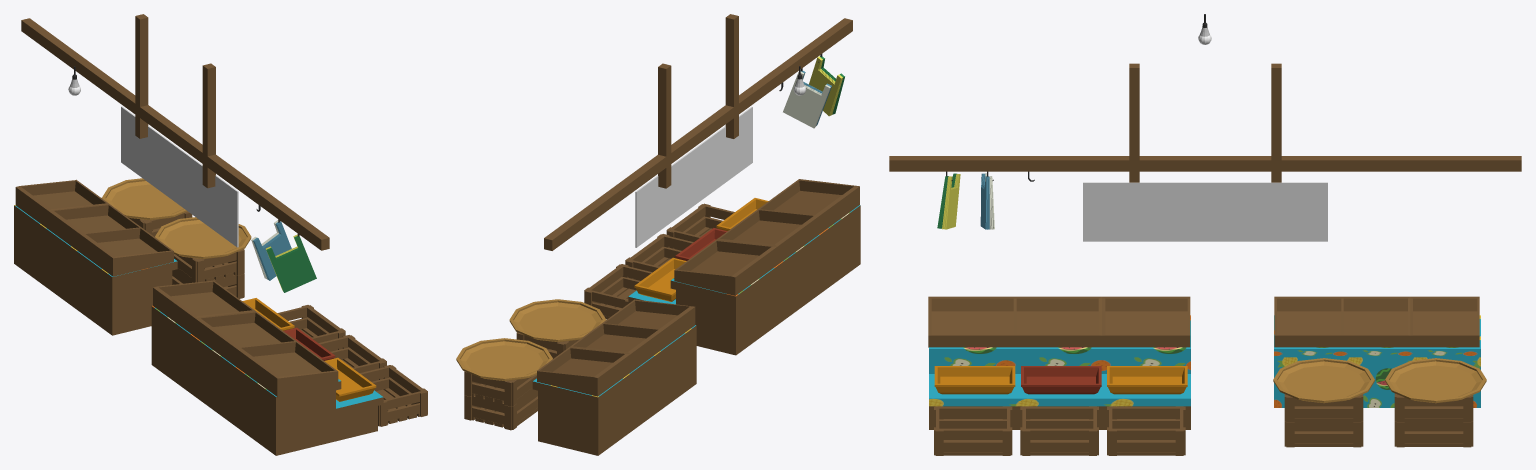
File: gulayanprutas.fbx
3 renders of one model, left to right at view 1: azimuth 30°, elevation 25°; view 2: azimuth 150°, elevation 25°; view 3: azimuth 270°, elevation 25°, orthographic. The views are drawn at different scales.
Visible parts, largest first — view 1: LongTable1.002, Container.003, gulayanprutas, LongTable1.003, Container.004, stallname, woodcrates.001, bilao, woodcrates, plastic.001, Container.002, plastic (+2 smaller); view 2: LongTable1.002, Container.003, LongTable1.003, gulayanprutas, Container.004, stallname, bilao, woodcrates.001, woodcrates, plastic, Container, plastic.001 (+2 smaller); view 3: stallname, Container.003, gulayanprutas, woodcrates.001, Container.004, LongTable1.002, woodcrates, bilao, LongTable1.003, Container.002, Container, Container.001 (+2 smaller).
Part boxes in pixels (left/top/right/bottom): LongTable1.002: left=151, top=305, right=383, bottom=455; Container.003: left=153, top=280, right=338, bottom=397; gulayanprutas: left=21, top=14, right=329, bottom=250; LongTable1.003: left=14, top=205, right=177, bottom=335; Container.004: left=15, top=179, right=173, bottom=276; stallname: left=121, top=106, right=238, bottom=247; woodcrates.001: left=277, top=305, right=427, bottom=426; bilao: left=102, top=178, right=251, bottom=258; woodcrates: left=128, top=211, right=244, bottom=298; plastic.001: left=266, top=234, right=316, bottom=292; Container.002: left=324, top=357, right=376, bottom=401; plastic: left=251, top=220, right=291, bottom=280; LongTable1.002: left=628, top=205, right=860, bottom=355; Container.003: left=674, top=179, right=859, bottom=295; LongTable1.003: left=532, top=325, right=696, bottom=455; gulayanprutas: left=544, top=14, right=852, bottom=250; Container.004: left=537, top=299, right=695, bottom=396; stallname: left=635, top=106, right=752, bottom=247; bilao: left=456, top=299, right=606, bottom=380; woodcrates.001: left=584, top=203, right=734, bottom=319; woodcrates: left=464, top=332, right=579, bottom=430; plastic: left=783, top=70, right=831, bottom=128; Container: left=634, top=257, right=686, bottom=301; plastic.001: left=809, top=56, right=844, bottom=116; stallname: left=1083, top=182, right=1327, bottom=241; Container.003: left=928, top=296, right=1190, bottom=347; gulayanprutas: left=889, top=63, right=1521, bottom=182; woodcrates.001: left=934, top=406, right=1185, bottom=455; Container.004: left=1274, top=296, right=1479, bottom=347; LongTable1.002: left=929, top=315, right=1190, bottom=429; woodcrates: left=1284, top=393, right=1473, bottom=447; bilao: left=1273, top=358, right=1486, bottom=403; LongTable1.003: left=1274, top=315, right=1480, bottom=407; Container.002: left=934, top=366, right=1015, bottom=394; Container: left=1107, top=366, right=1187, bottom=394; Container.001: left=1021, top=366, right=1101, bottom=394.
Size of the model in its own units: 4.65 by 5.95 by 10.41.
13 materials, 1 textured.
